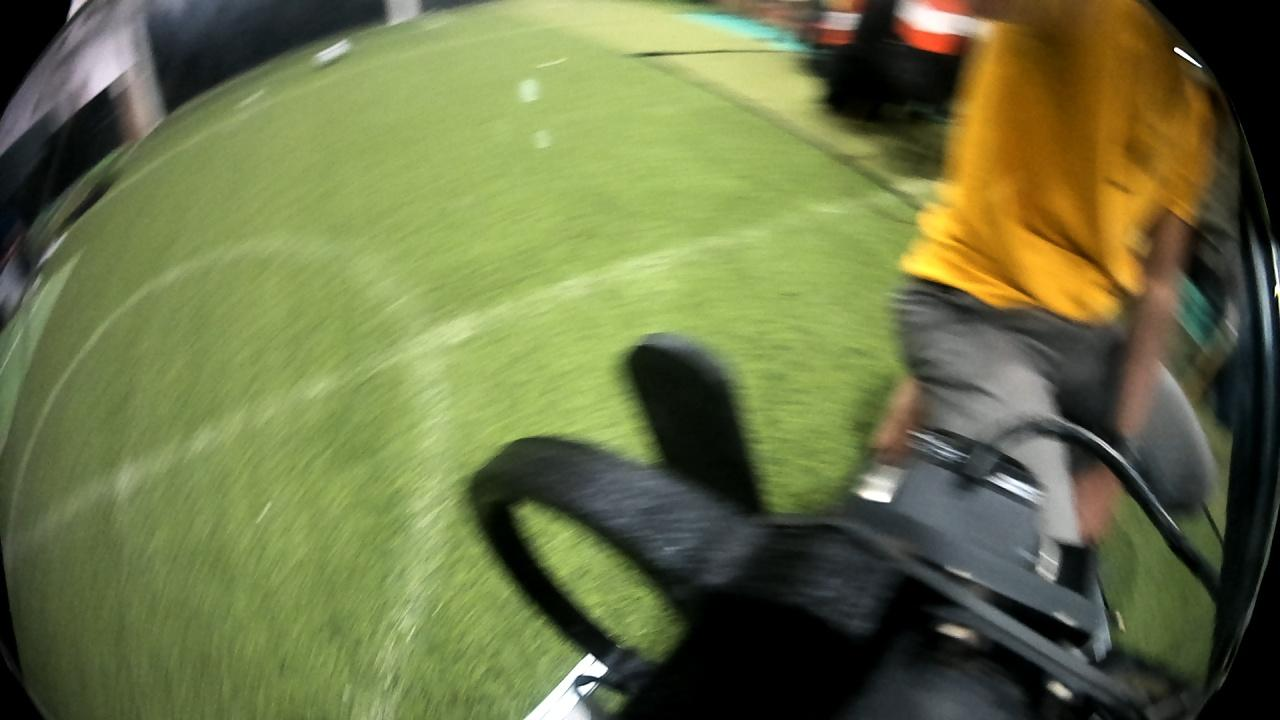ball: (307, 33, 358, 72)
